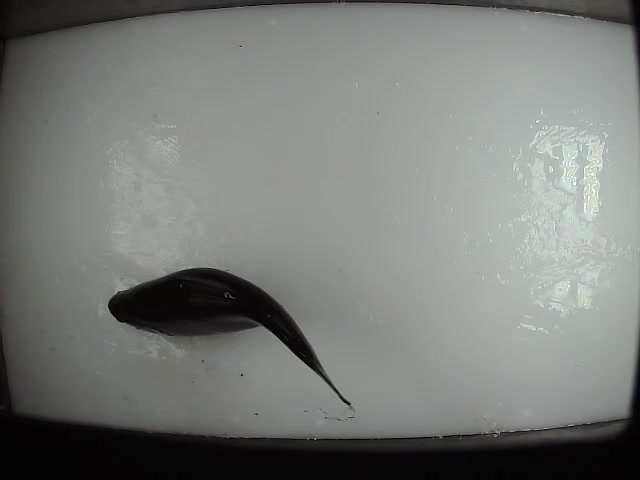fish: (106, 266, 354, 406)
